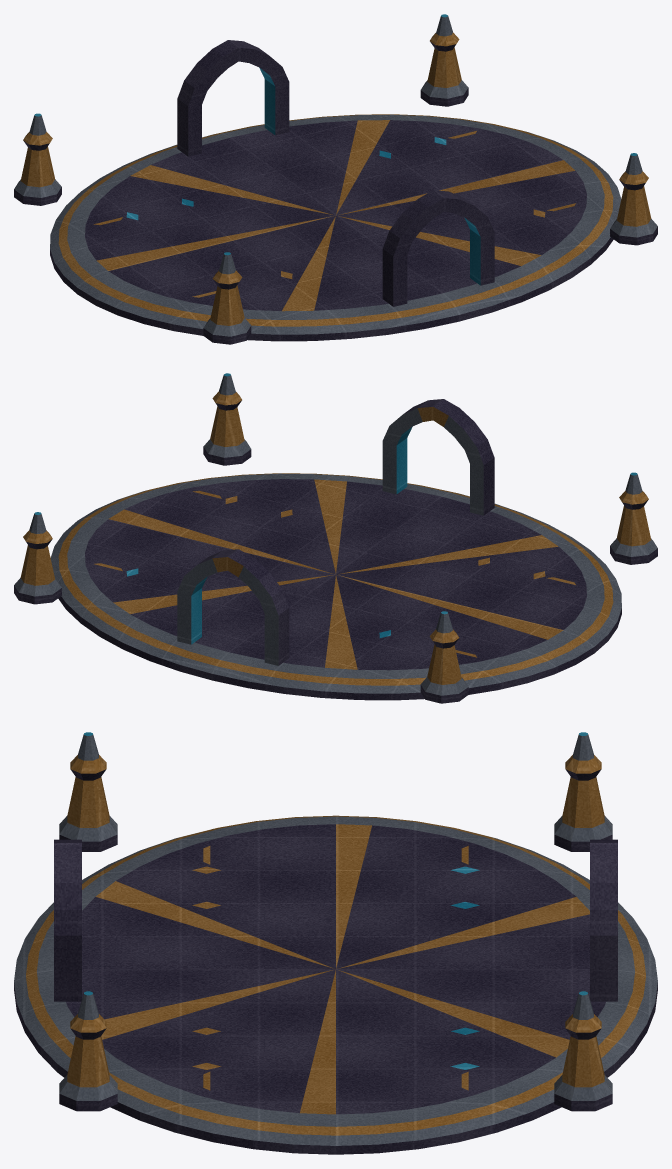
The model's file is VF_BATTLE_CITADEL_ARENA.obj.
3 renders of one model, top to bottom at view 1: azimuth 30°, elevation 25°; view 2: azimuth 150°, elevation 25°; view 3: azimuth 270°, elevation 25°, orthographic. The views are drawn at different scales.
Parts seen in each view (by area): view 1: VF_BATTLE_TIERED_OVAL_DAIS, VF_BATTLE_GATEWAY_PLAYER, VF_BATTLE_GATEWAY_RIVAL, VF_BATTLE_SENTINEL_WEST_RIVAL, VF_BATTLE_SENTINEL_EAST_PLAYER, VF_BATTLE_SENTINEL_WEST_PLAYER, VF_BATTLE_SENTINEL_EAST_RIVAL, VF_BATTLE_PLAYER_AND_RIVAL_WARD_INLAYS; view 2: VF_BATTLE_TIERED_OVAL_DAIS, VF_BATTLE_GATEWAY_RIVAL, VF_BATTLE_GATEWAY_PLAYER, VF_BATTLE_SENTINEL_WEST_PLAYER, VF_BATTLE_SENTINEL_EAST_RIVAL, VF_BATTLE_SENTINEL_WEST_RIVAL, VF_BATTLE_SENTINEL_EAST_PLAYER, VF_BATTLE_PLAYER_AND_RIVAL_WARD_INLAYS; view 3: VF_BATTLE_TIERED_OVAL_DAIS, VF_BATTLE_GATEWAY_PLAYER, VF_BATTLE_GATEWAY_RIVAL, VF_BATTLE_SENTINEL_EAST_PLAYER, VF_BATTLE_SENTINEL_EAST_RIVAL, VF_BATTLE_SENTINEL_WEST_PLAYER, VF_BATTLE_SENTINEL_WEST_RIVAL, VF_BATTLE_PLAYER_AND_RIVAL_WARD_INLAYS.
Part boxes in pixels (box(x1,y1,x2,y2)): VF_BATTLE_TIERED_OVAL_DAIS: box(50, 114, 621, 341); VF_BATTLE_GATEWAY_PLAYER: box(177, 40, 289, 156); VF_BATTLE_GATEWAY_RIVAL: box(382, 190, 494, 306); VF_BATTLE_SENTINEL_WEST_RIVAL: box(203, 252, 251, 344); VF_BATTLE_SENTINEL_EAST_PLAYER: box(420, 14, 468, 106); VF_BATTLE_SENTINEL_WEST_PLAYER: box(14, 113, 61, 205); VF_BATTLE_SENTINEL_EAST_RIVAL: box(610, 153, 657, 245); VF_BATTLE_PLAYER_AND_RIVAL_WARD_INLAYS: box(93, 131, 575, 297); VF_BATTLE_TIERED_OVAL_DAIS: box(50, 473, 621, 700); VF_BATTLE_GATEWAY_RIVAL: box(382, 399, 494, 515); VF_BATTLE_GATEWAY_PLAYER: box(177, 549, 289, 665); VF_BATTLE_SENTINEL_WEST_PLAYER: box(420, 611, 468, 703); VF_BATTLE_SENTINEL_EAST_RIVAL: box(203, 373, 251, 465); VF_BATTLE_SENTINEL_WEST_RIVAL: box(610, 472, 657, 564); VF_BATTLE_SENTINEL_EAST_PLAYER: box(14, 512, 61, 604); VF_BATTLE_PLAYER_AND_RIVAL_WARD_INLAYS: box(94, 490, 575, 657); VF_BATTLE_TIERED_OVAL_DAIS: box(14, 815, 657, 1154); VF_BATTLE_GATEWAY_PLAYER: box(590, 839, 617, 1001); VF_BATTLE_GATEWAY_RIVAL: box(54, 839, 81, 1001); VF_BATTLE_SENTINEL_EAST_PLAYER: box(554, 991, 612, 1111); VF_BATTLE_SENTINEL_EAST_RIVAL: box(59, 991, 117, 1111); VF_BATTLE_SENTINEL_WEST_PLAYER: box(554, 732, 612, 851); VF_BATTLE_SENTINEL_WEST_RIVAL: box(59, 732, 117, 851); VF_BATTLE_PLAYER_AND_RIVAL_WARD_INLAYS: box(192, 845, 479, 1090).
Bounding box in the file's own units: 17.8 × 3.7 × 14.7.
Materials: 5 (5 with a texture image).
